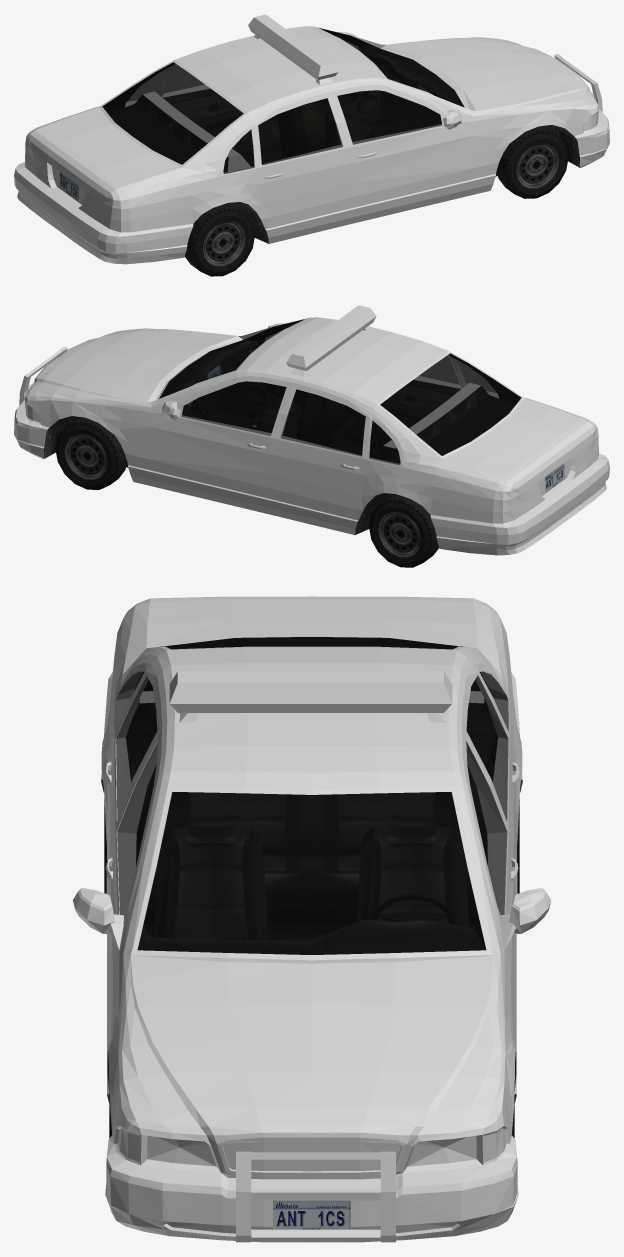
3 views of the same model, one above another, from view 1: azimuth 30°, elevation 25°; view 2: azimuth 150°, elevation 25°; view 3: azimuth 270°, elevation 25° (orthographic). The views are drawn at different scales.
Bounding box in the file's own units: 2.5 × 0.7666 × 0.9791.
Materials: 6 (3 with a texture image).
